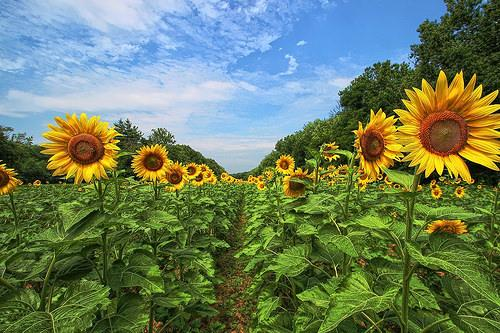sunflower: (398, 71, 500, 180), (42, 111, 122, 183), (353, 108, 402, 175), (132, 143, 172, 182), (163, 162, 186, 191), (284, 175, 309, 199), (276, 155, 294, 174)
